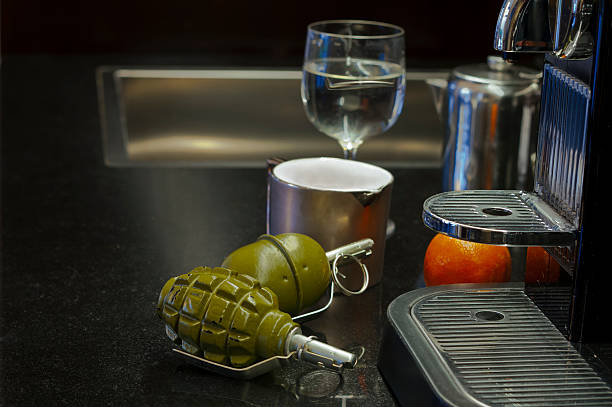e1: (225, 225, 383, 318)
